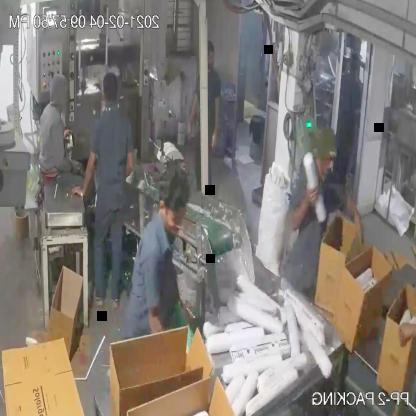no_glove: (288, 172, 321, 240), (66, 137, 98, 205), (327, 182, 368, 235), (205, 86, 224, 154), (184, 80, 202, 146), (397, 318, 416, 352)
